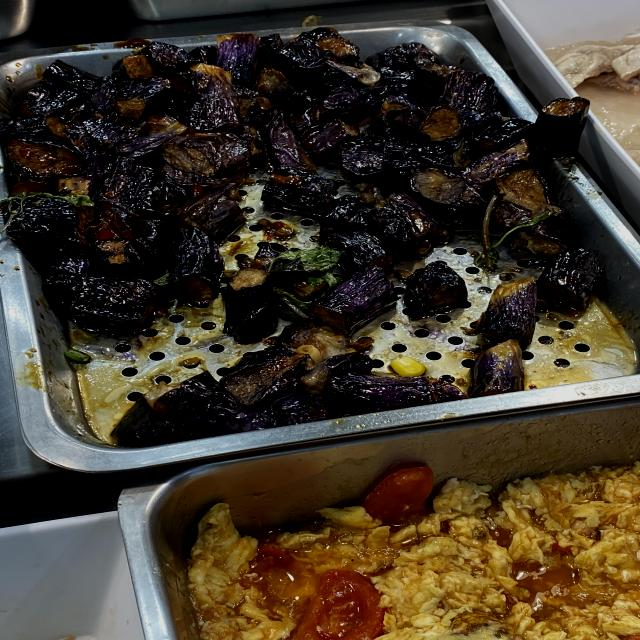eggplant: (67, 61, 421, 196)
